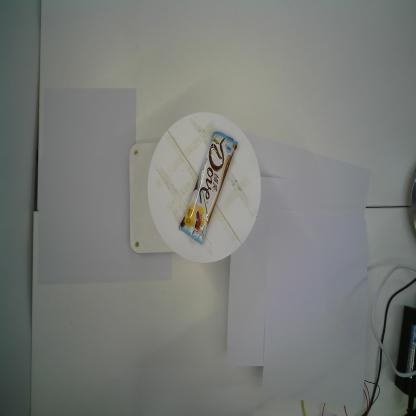Chocolate: (178, 130, 239, 245)
